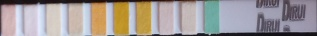color 1: (2, 6, 14, 34)
color 10: (206, 2, 218, 31)
color 2: (24, 6, 37, 34)
color 3: (47, 6, 60, 36)
color 4: (70, 5, 81, 35)
color 5: (92, 4, 104, 34)
color 6: (115, 4, 127, 34)
color 7: (137, 3, 150, 33)
color 8: (160, 2, 172, 33)
color 9: (183, 4, 194, 33)
